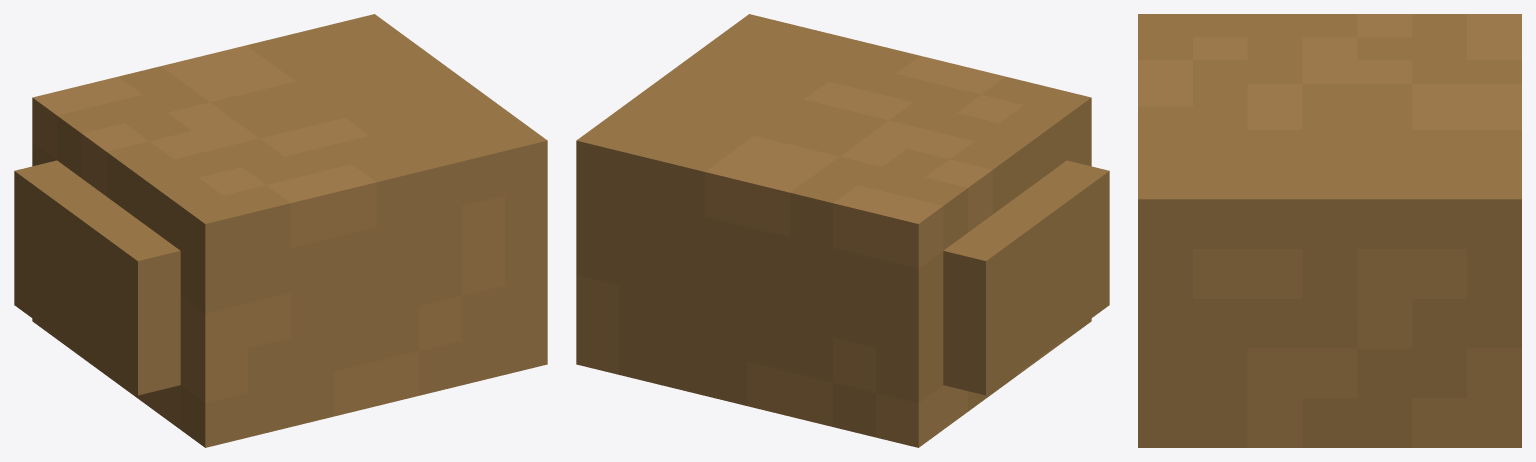
Rendered from Animals-9.obj.
3 renders of one model, left to right at view 1: azimuth 30°, elevation 25°; view 2: azimuth 150°, elevation 25°; view 3: azimuth 270°, elevation 25°, orthographic. The views are drawn at different scales.
Bounding box in the file's own units: 0.9 × 0.5 × 0.7.
Materials: 1 (1 with a texture image).
